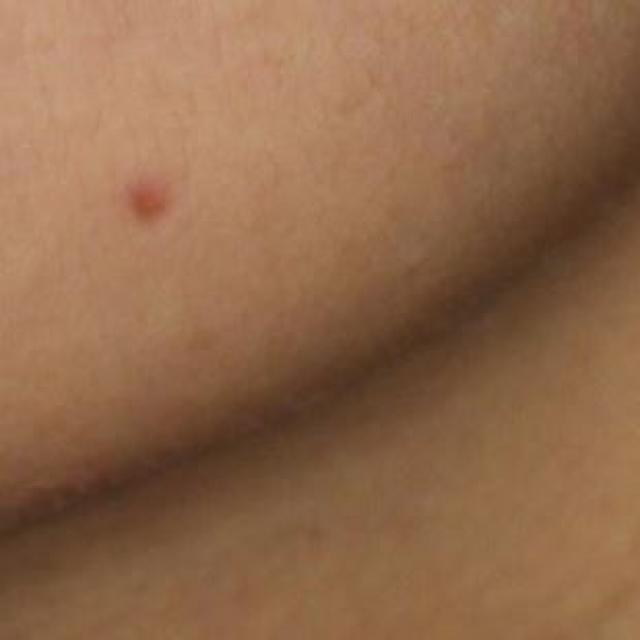Pimples: (122, 168, 180, 233)
